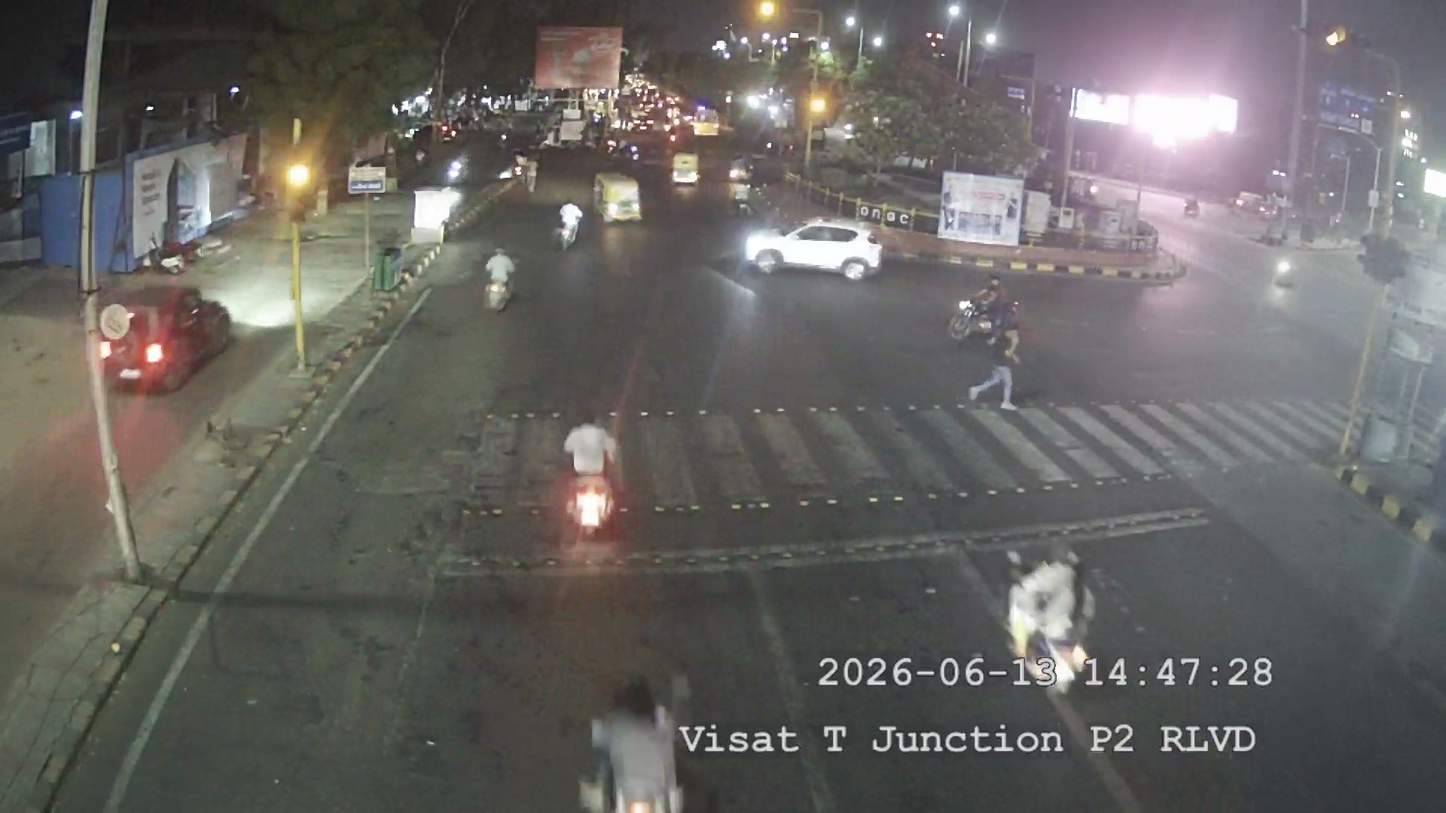auto_rickshaw: (592, 168, 645, 223), (668, 147, 703, 187)
car: (741, 213, 887, 280), (347, 157, 391, 194)
two_wheeler: (989, 547, 1113, 678), (557, 408, 627, 541), (944, 275, 1025, 349), (476, 241, 522, 315), (1264, 246, 1304, 298), (552, 195, 587, 250)
